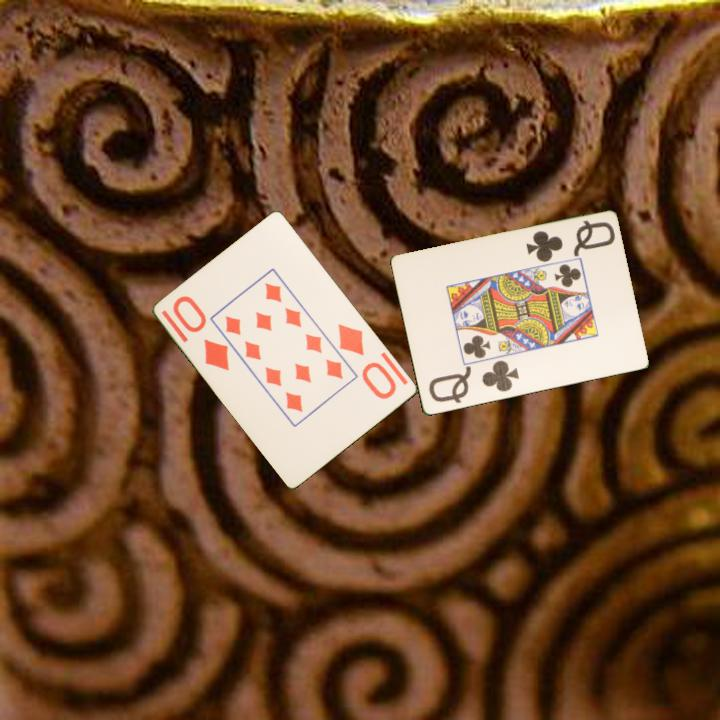10d: (335, 320, 400, 402), (169, 292, 233, 374)
Qc: (425, 357, 522, 407), (522, 217, 618, 265)
